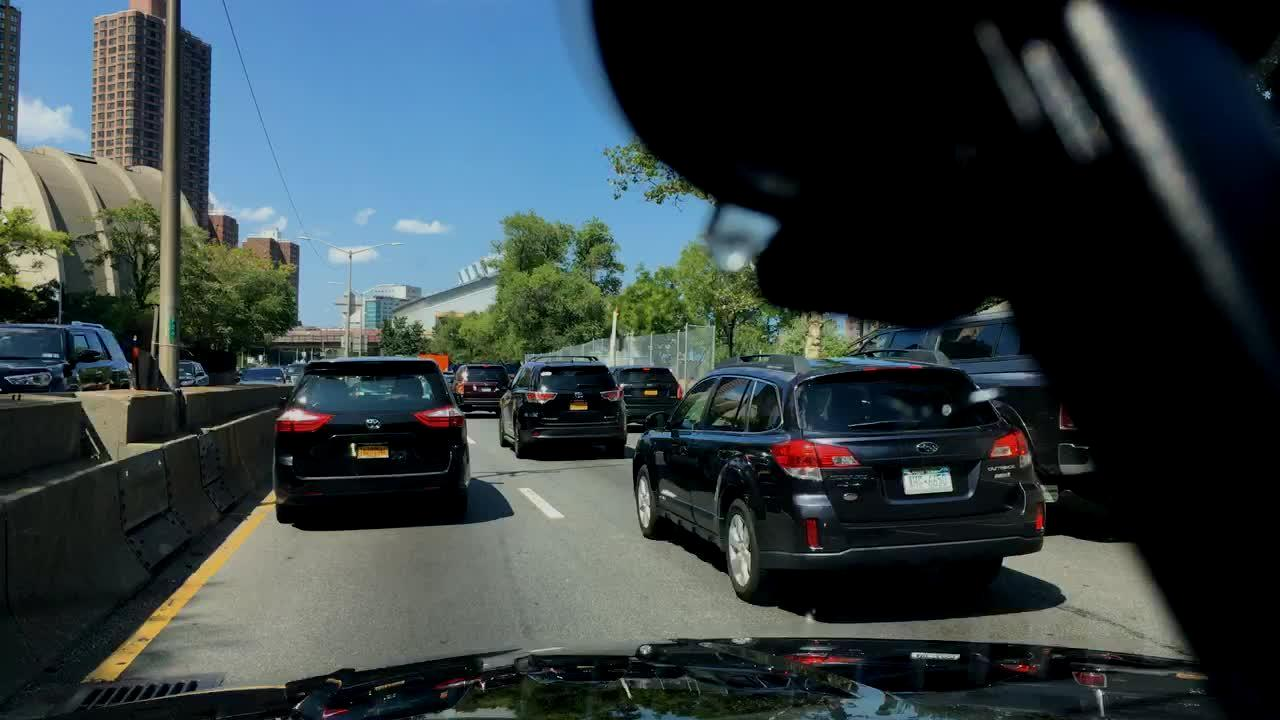Toyota: (365, 415, 381, 434)
subaru: (913, 438, 941, 459)
